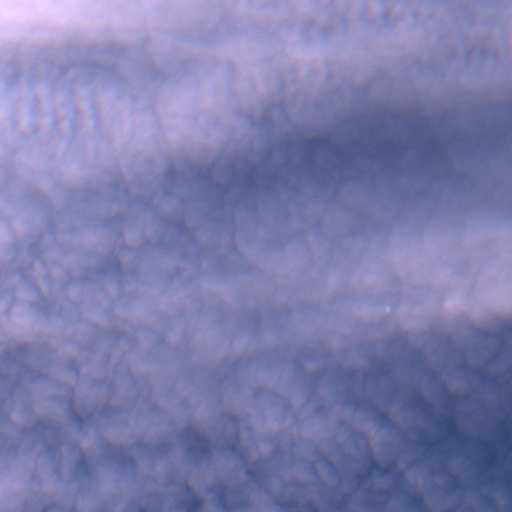Iceberg: (386, 305, 389, 312)
